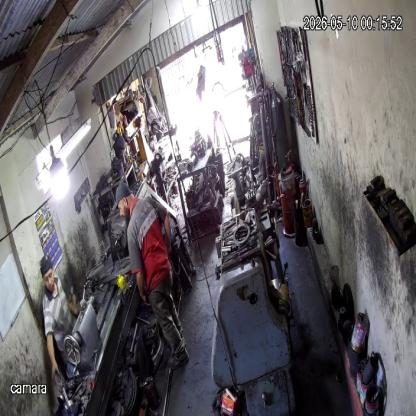sin_lentes: (42, 272, 54, 283)
